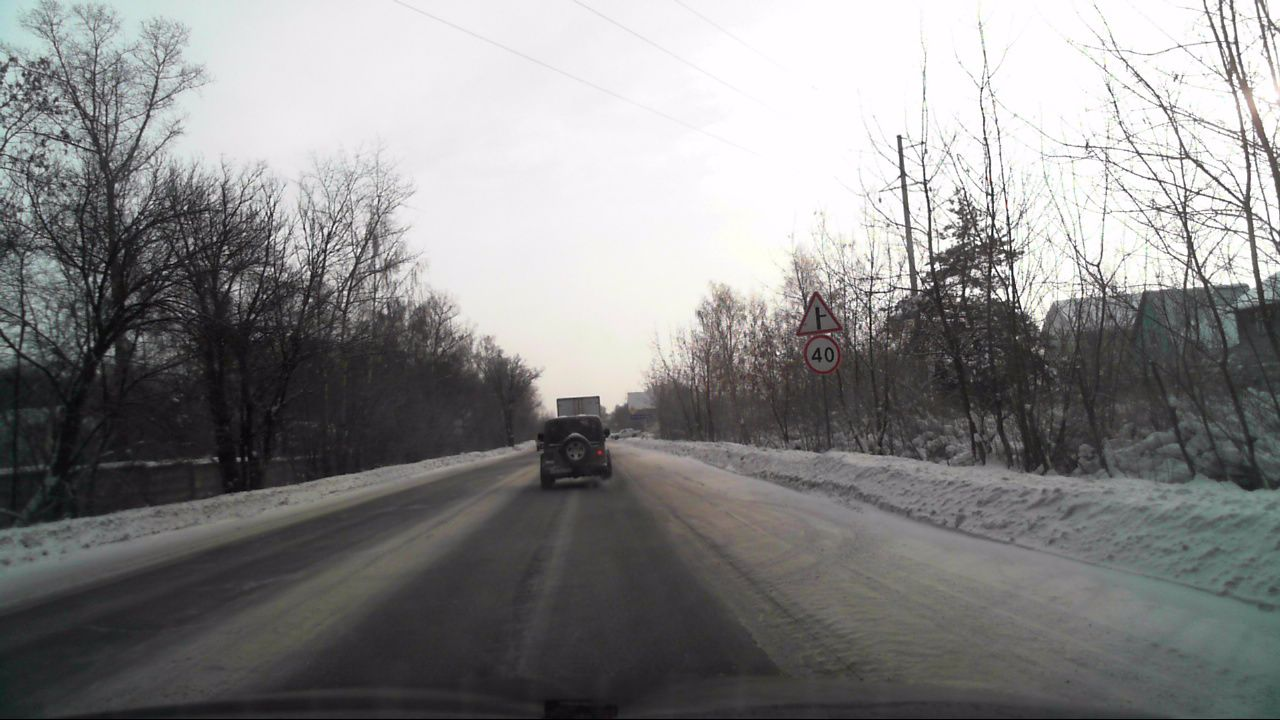speed_warning_40: (803, 337, 841, 373)
